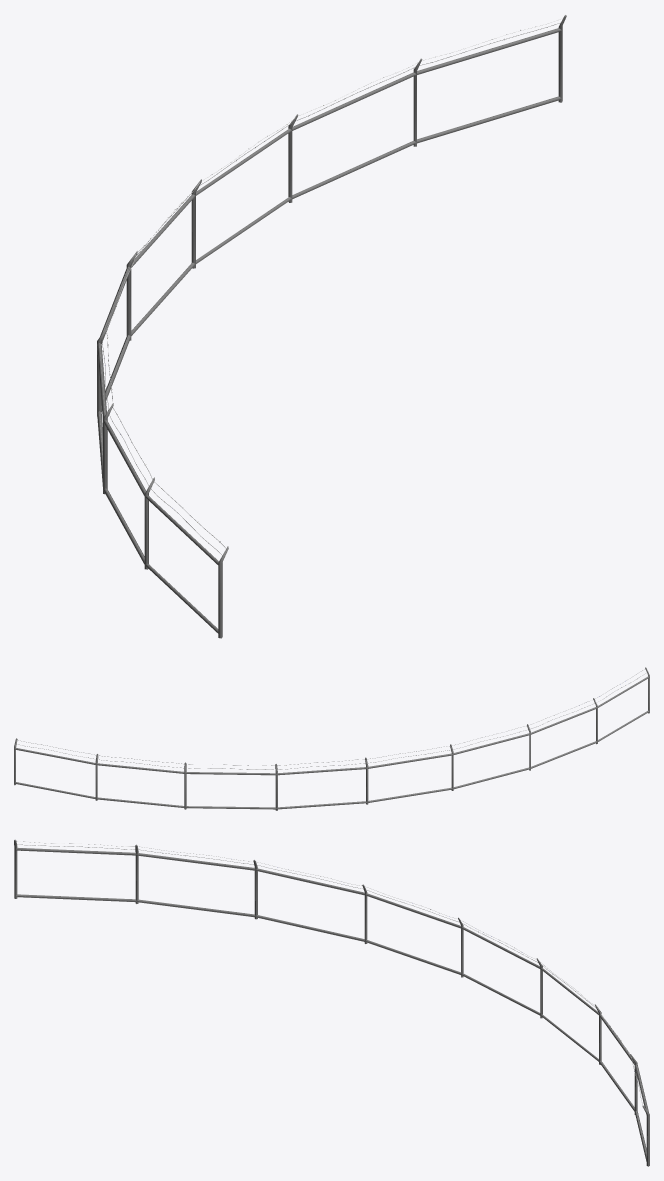
File: SW_ENV_WalledBend_WireFence_InnerArc.fbx
3 views of the same model, one above another, from view 1: azimuth 30°, elevation 25°; view 2: azimuth 150°, elevation 25°; view 3: azimuth 270°, elevation 25° (orthographic). The views are drawn at different scales.
Visible parts, largest first — view 1: SW_ENV_WalledBend_WireFence_InnerArc; view 2: SW_ENV_WalledBend_WireFence_InnerArc; view 3: SW_ENV_WalledBend_WireFence_InnerArc.
Boxes of the visible parts, <box> form: SW_ENV_WalledBend_WireFence_InnerArc: <box>97,14,566,638</box>; SW_ENV_WalledBend_WireFence_InnerArc: <box>14,667,649,810</box>; SW_ENV_WalledBend_WireFence_InnerArc: <box>14,839,649,1166</box>.
Size of the model in its own units: 22.45 by 2.39 by 22.44.
